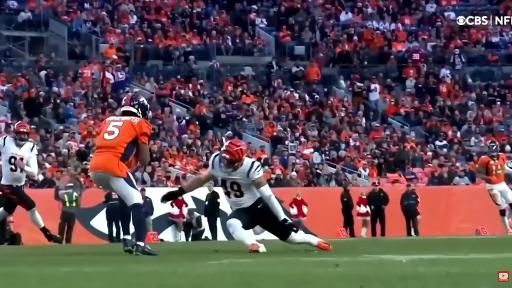Helmet: (220, 139, 247, 172), (121, 94, 151, 119), (14, 122, 30, 146), (487, 140, 499, 159)
Jersey: (90, 116, 151, 177), (210, 153, 263, 209), (0, 136, 37, 185), (478, 154, 506, 184)
Player: (162, 139, 331, 252), (90, 94, 156, 255), (0, 122, 62, 243), (476, 141, 511, 234)
